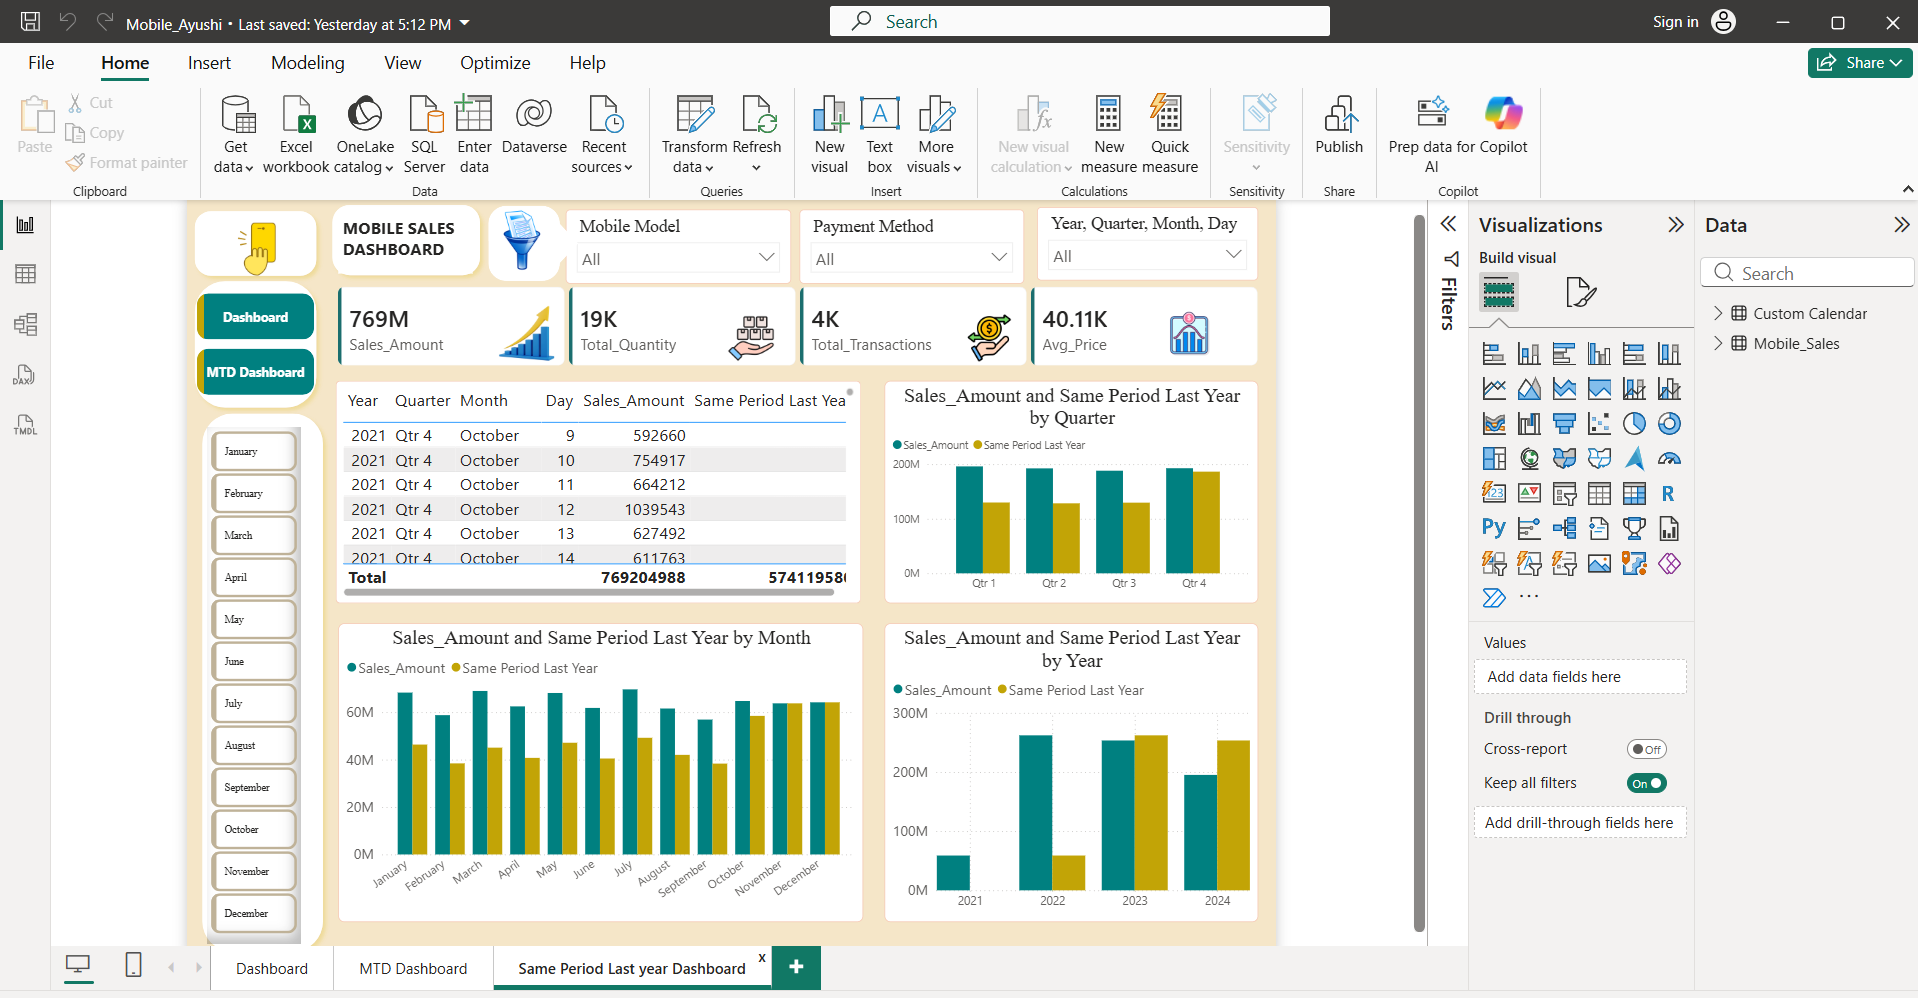

What the dashboard file says about the page in this screenshot:
{"tool":"powerbi","page":{"name":"Same Period Last year Dashboard","canvas":[1245,872],"ordinal":2},"visuals":[{"type":"shape","box":[0,7.1,156.7,91.8],"z":0},{"type":"image","box":[0,0,142.6,98.8],"z":1000},{"type":"shape","box":[0,87.5,156.7,162.4],"z":2000},{"type":"shape","box":[8.6,238.6,155.7,632.9],"z":3000},{"type":"cardVisual","fields":{"Data":["Mobile_Sales.Sales_Amount","Mobile_Sales.Total_Quantity","Mobile_Sales.Total_Transactions","Mobile_Sales.Avg_Price"]},"box":[155.7,85.7,1088.6,124.3],"z":4000},{"type":"image","box":[343.8,115.6,88.8,77.5],"z":5000},{"type":"image","box":[608.8,135.3,71.9,52.1],"z":6000},{"type":"image","box":[875.1,133.9,81.7,53.5],"z":7000},{"type":"image","box":[1120.3,121.2,52.1,69.1],"z":8000},{"type":"slicer","fields":{"Values":["Custom Calendar.Date.Variation.Date Hierarchy.Year","Custom Calendar.Date.Variation.Date Hierarchy.Quarter","Custom Calendar.Date.Variation.Date Hierarchy.Month","Custom Calendar.Date.Variation.Date Hierarchy.Day"]},"box":[971.4,11.4,252.9,84.3],"z":9000},{"type":"slicer","fields":{"Values":["Mobile_Sales.Payment Method"]},"box":[700.4,14.1,256.5,84.6],"z":10000},{"type":"slicer","fields":{"Values":["Mobile_Sales.Mobile Model"]},"box":[432.6,14.1,257.9,84.6],"z":11000},{"type":"shape","box":[344,10,82,86],"z":12000},{"type":"image","box":[339,10,87,76],"z":13000},{"type":"shape","box":[404,30,43,46],"z":14000},{"type":"shape","box":[156.7,0,186.7,98.3],"z":15000},{"type":"textbox","box":[173.3,16.7,153.3,70],"z":16000},{"type":"advancedSlicerVisual","fields":{"Values":["Custom Calendar.Date.Variation.Date Hierarchy.Month"]},"box":[23.3,263.3,108.3,590],"z":17000},{"type":"tableEx","fields":{"Values":["Custom Calendar.Date.Variation.Date Hierarchy.Year","Custom Calendar.Date.Variation.Date Hierarchy.Quarter","Custom Calendar.Date.Variation.Date Hierarchy.Month","Custom Calendar.Date.Variation.Date Hierarchy.Day","Mobile_Sales.Sales_Amount","Mobile_Sales.Same Period Last Year"]},"box":[170,210,600,254.3],"z":18000},{"type":"clusteredColumnChart","fields":{"Category":["Custom Calendar.Date.Variation.Date Hierarchy.Year","Custom Calendar.Date.Variation.Date Hierarchy.Quarter","Custom Calendar.Date.Variation.Date Hierarchy.Month","Custom Calendar.Date.Variation.Date Hierarchy.Day"],"Y":["Mobile_Sales.Sales_Amount","Mobile_Sales.Same Period Last Year"]},"box":[797.1,487.1,427.1,341.4],"z":19000},{"type":"clusteredColumnChart","fields":{"Category":["Custom Calendar.Date.Variation.Date Hierarchy.Year","Custom Calendar.Date.Variation.Date Hierarchy.Quarter","Custom Calendar.Date.Variation.Date Hierarchy.Month","Custom Calendar.Date.Variation.Date Hierarchy.Day"],"Y":["Mobile_Sales.Sales_Amount","Mobile_Sales.Same Period Last Year"]},"box":[172.9,487.1,600,341.4],"z":19001},{"type":"clusteredColumnChart","fields":{"Category":["Custom Calendar.Date.Variation.Date Hierarchy.Year","Custom Calendar.Date.Variation.Date Hierarchy.Quarter","Custom Calendar.Date.Variation.Date Hierarchy.Month","Custom Calendar.Date.Variation.Date Hierarchy.Day"],"Y":["Mobile_Sales.Sales_Amount","Mobile_Sales.Same Period Last Year"]},"box":[797.1,210,427.1,254.3],"z":19002},{"type":"pageNavigator","box":[11.4,110,134.3,117.1],"z":19003}]}

Visuals, with their boxes on the page's 1245x872 design canvas (x1, y1, x2, y2). These are canvas units, not pixel positions in the 1918x998 screenshot, which may show the page scaled, cropped or inside an application window:
shape: 0,7,157,99
image: 0,0,143,99
shape: 0,88,157,250
shape: 9,239,164,872
cardVisual - Mobile_Sales.Sales_Amount x Mobile_Sales.Total_Quantity: 156,86,1244,210
image: 344,116,433,193
image: 609,135,681,187
image: 875,134,957,187
image: 1120,121,1172,190
slicer - Custom Calendar.Date.Variation.Date Hierarchy.Year x Custom Calendar.Date.Variation.Date Hierarchy.Quarter: 971,11,1224,96
slicer - Mobile_Sales.Payment Method: 700,14,957,99
slicer - Mobile_Sales.Mobile Model: 433,14,690,99
shape: 344,10,426,96
image: 339,10,426,86
shape: 404,30,447,76
shape: 157,0,343,98
textbox: 173,17,327,87
advancedSlicerVisual - Custom Calendar.Date.Variation.Date Hierarchy.Month: 23,263,132,853
tableEx - Custom Calendar.Date.Variation.Date Hierarchy.Year x Custom Calendar.Date.Variation.Date Hierarchy.Quarter: 170,210,770,464
clusteredColumnChart - Custom Calendar.Date.Variation.Date Hierarchy.Year x Custom Calendar.Date.Variation.Date Hierarchy.Quarter: 797,487,1224,828
clusteredColumnChart - Custom Calendar.Date.Variation.Date Hierarchy.Year x Custom Calendar.Date.Variation.Date Hierarchy.Quarter: 173,487,773,828
clusteredColumnChart - Custom Calendar.Date.Variation.Date Hierarchy.Year x Custom Calendar.Date.Variation.Date Hierarchy.Quarter: 797,210,1224,464
pageNavigator: 11,110,146,227
